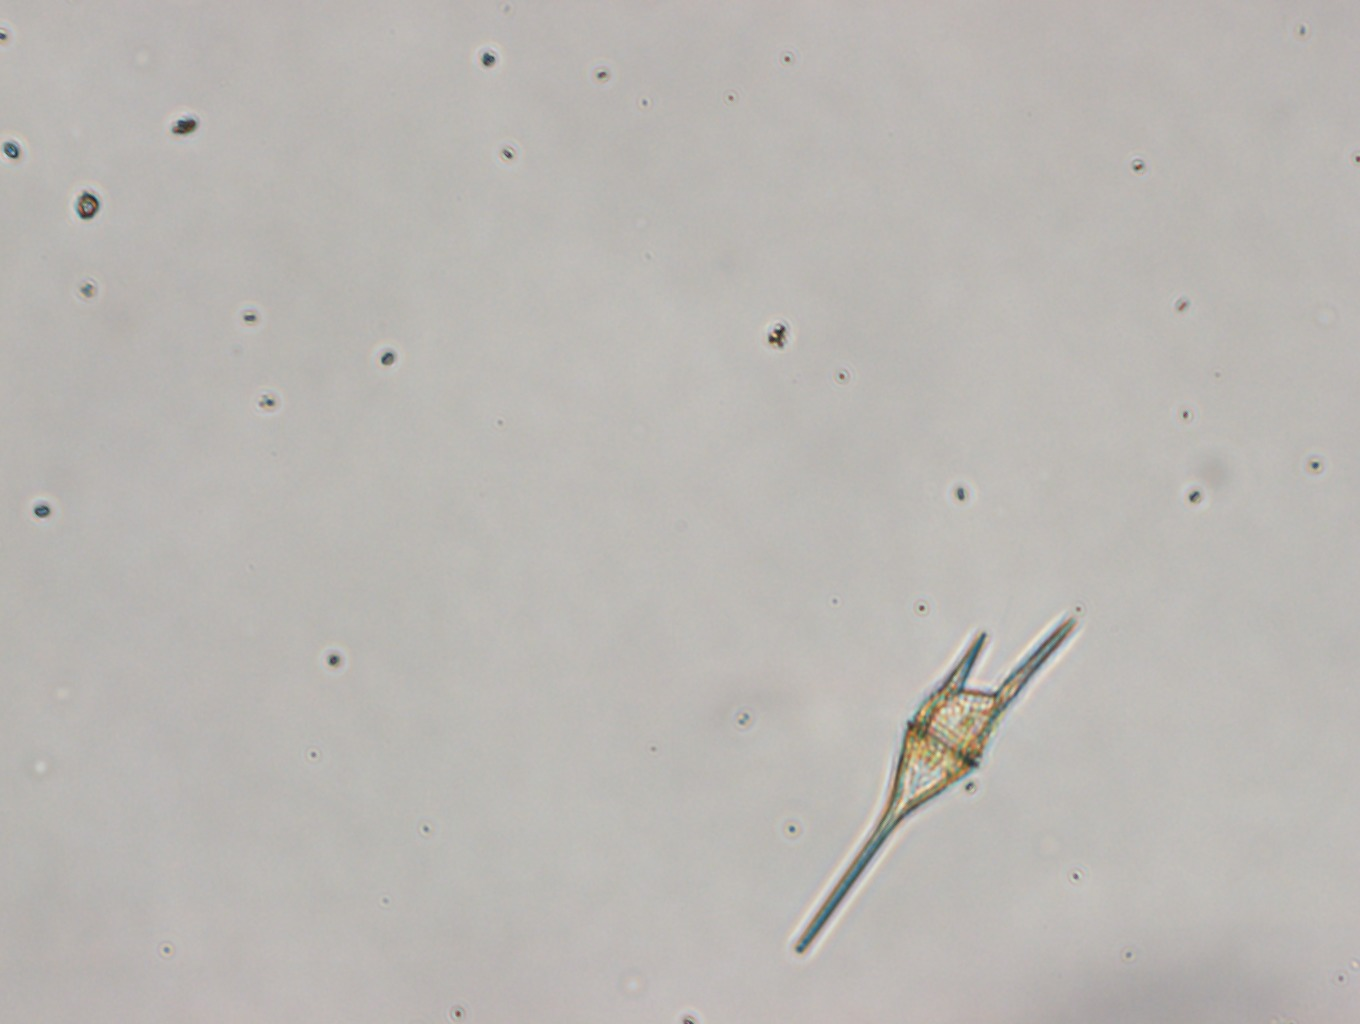ceratium furca: (794, 618, 1080, 956)
